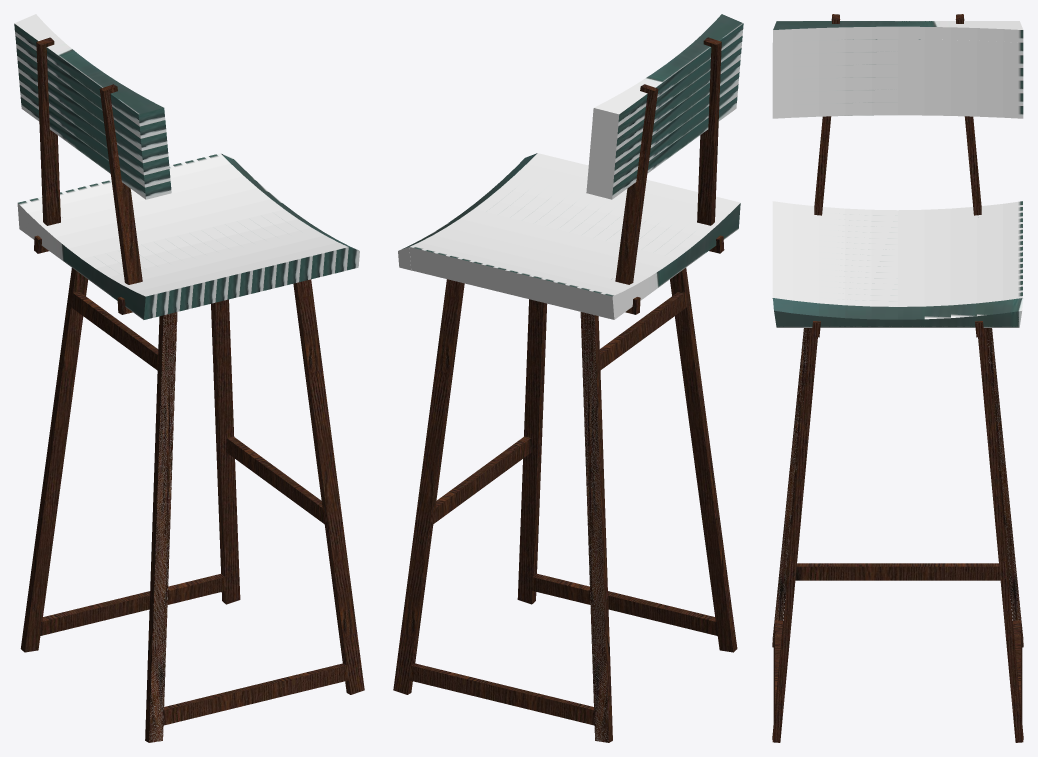
3 renders of one model, left to right at view 1: azimuth 30°, elevation 25°; view 2: azimuth 150°, elevation 25°; view 3: azimuth 270°, elevation 25°, orthographic. The views are drawn at different scales.
Parts seen in each view (by area): view 1: mesh24.001_mesh24-geometry, mesh17.001_mesh17-geometry, mesh12_mesh12-geometry, mesh6_mesh6-geometry, mesh29.001_mesh29-geometry, mesh15.006_mesh15-geometry, mesh23.001_mesh23-geometry, mesh5_mesh5-geometry, mesh27.002_mesh27-geometry, mesh38.001_mesh38-geometry, mesh4_mesh4-geometry, mesh1_mesh1-geometry (+23 smaller); view 2: mesh12_mesh12-geometry, mesh6_mesh6-geometry, mesh24.001_mesh24-geometry, mesh17.001_mesh17-geometry, mesh29.001_mesh29-geometry, mesh15.006_mesh15-geometry, mesh5_mesh5-geometry, mesh23.001_mesh23-geometry, mesh38.001_mesh38-geometry, mesh27.002_mesh27-geometry, mesh4_mesh4-geometry, mesh1_mesh1-geometry (+23 smaller); view 3: mesh36.001_mesh36-geometry, mesh15.006_mesh15-geometry, mesh6_mesh6-geometry, mesh17.001_mesh17-geometry, mesh4_mesh4-geometry, mesh15.003_mesh15-geometry, mesh15.005_mesh15-geometry, mesh15.007_mesh15-geometry, mesh15.002_mesh15-geometry, mesh15.001_mesh15-geometry, mesh15.004_mesh15-geometry, mesh24.001_mesh24-geometry (+22 smaller).
Boxes of the visible parts, x1,y1,x2,y2 form: mesh24.001_mesh24-geometry: (145,312,177,742); mesh17.001_mesh17-geometry: (293,279,364,694); mesh12_mesh12-geometry: (20,268,88,652); mesh6_mesh6-geometry: (211,299,240,604); mesh29.001_mesh29-geometry: (17,200,157,319); mesh15.006_mesh15-geometry: (14,14,165,126); mesh23.001_mesh23-geometry: (163,663,348,725); mesh5_mesh5-geometry: (40,574,226,635); mesh27.002_mesh27-geometry: (99,84,142,284); mesh38.001_mesh38-geometry: (36,37,60,225); mesh4_mesh4-geometry: (226,436,324,523); mesh1_mesh1-geometry: (71,292,158,370); mesh12_mesh12-geometry: (580,312,612,742); mesh6_mesh6-geometry: (393,279,464,694); mesh24.001_mesh24-geometry: (670,268,737,652); mesh17.001_mesh17-geometry: (517,299,547,604); mesh29.001_mesh29-geometry: (600,200,740,319); mesh15.006_mesh15-geometry: (592,14,743,126); mesh5_mesh5-geometry: (409,663,595,725); mesh23.001_mesh23-geometry: (531,573,717,635); mesh38.001_mesh38-geometry: (615,84,658,284); mesh27.002_mesh27-geometry: (697,37,721,225); mesh4_mesh4-geometry: (433,436,531,523); mesh1_mesh1-geometry: (599,292,686,370); mesh36.001_mesh36-geometry: (773,298,1023,327); mesh15.006_mesh15-geometry: (773,21,1023,42); mesh6_mesh6-geometry: (978,328,1023,742); mesh17.001_mesh17-geometry: (772,328,817,742); mesh4_mesh4-geometry: (795,563,1000,580); mesh15.003_mesh15-geometry: (772,102,1023,118); mesh15.005_mesh15-geometry: (772,39,1023,55); mesh15.007_mesh15-geometry: (772,64,1023,80); mesh15.002_mesh15-geometry: (772,77,1023,93); mesh15.001_mesh15-geometry: (772,52,1023,67); mesh15.004_mesh15-geometry: (772,90,1023,105); mesh24.001_mesh24-geometry: (772,328,810,647).
Size of the model in its own units: 0.3354 by 0.8846 by 0.3239.
